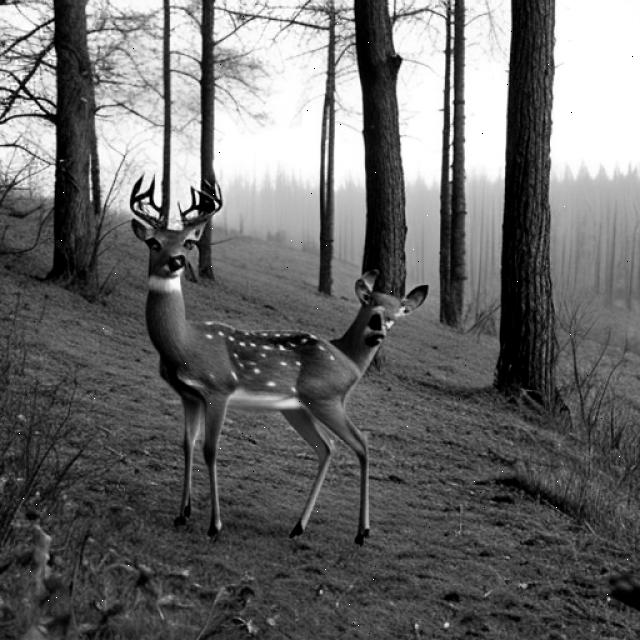deer: (112, 146, 285, 534)
